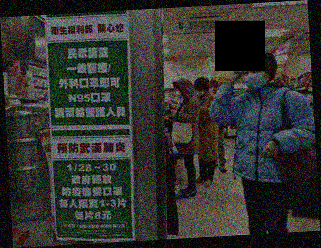with_mask: (242, 64, 268, 93), (194, 87, 208, 97), (174, 87, 183, 100), (208, 84, 216, 94)
